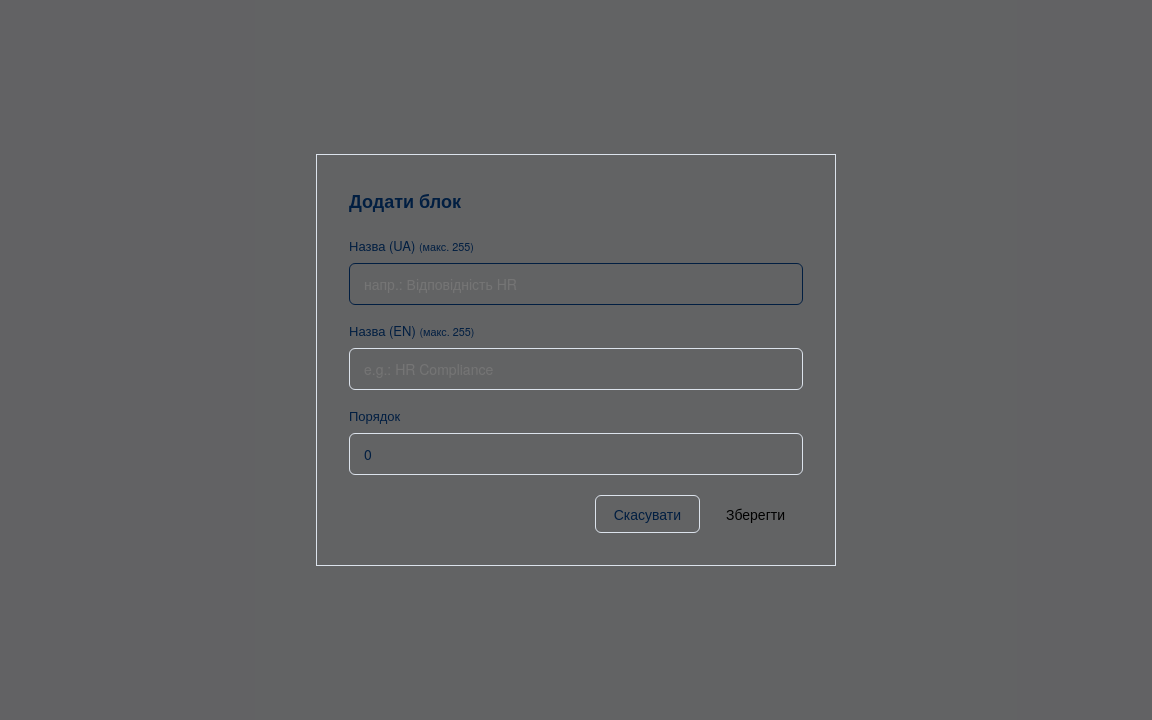
Test: field_too_long in the save modals › re-enables the form after the rejection so the value can be shortened
This screenshot has width=1152, height=720.
Type "Block" into the field with placeholder "e.g.: HR Compliance".
click(576, 369); type("Block")  # box [349,348,803,390]
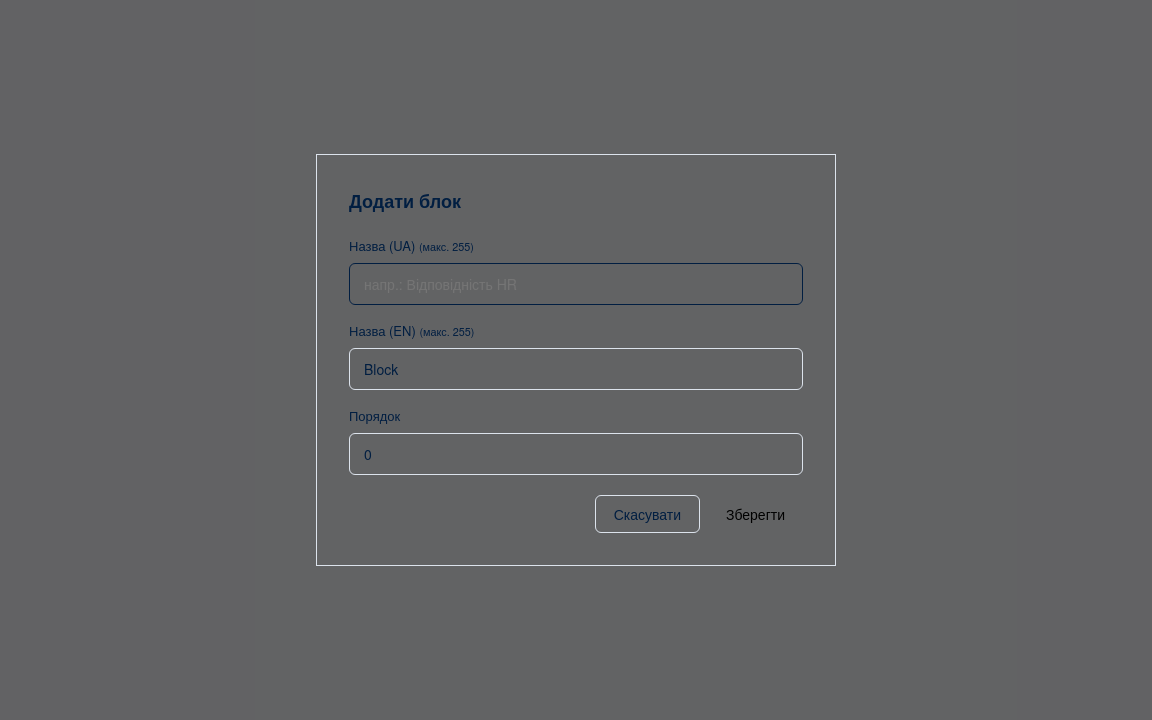
Click the button "Зберегти".
click(756, 514)  # box [708,495,803,533]
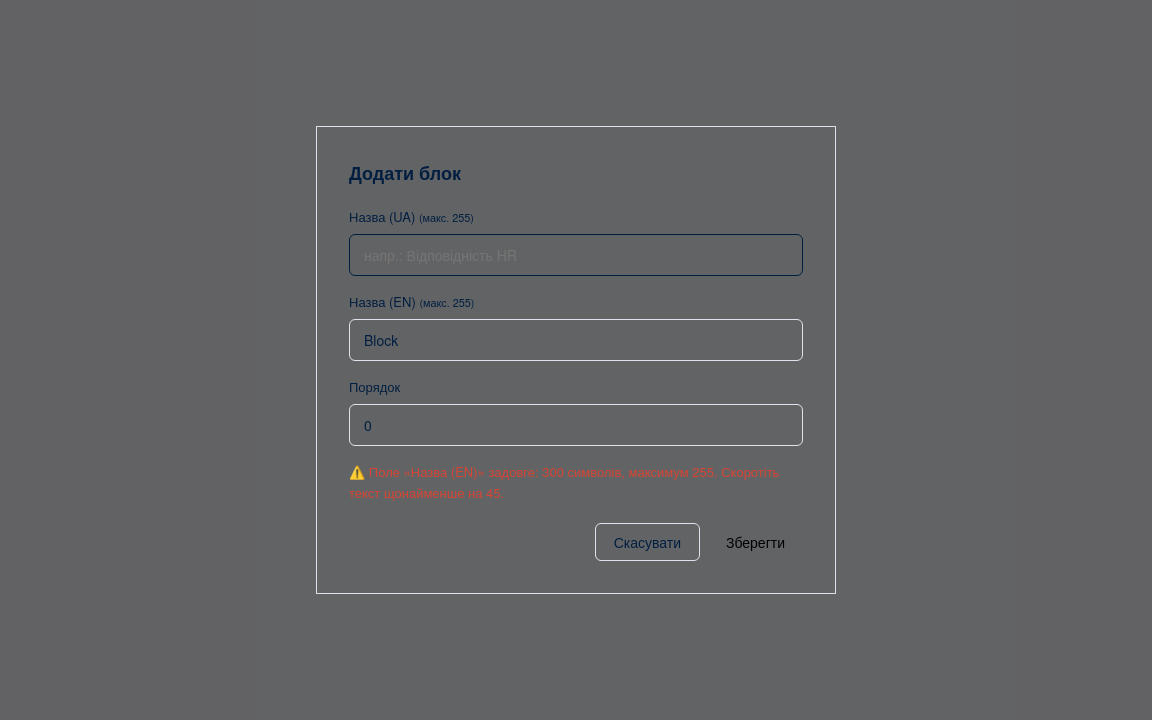
Expected: the button "Зберегти" is enabled, [708,523,803,561]
Expected: the text "Поле «Назва (EN)» задовге" is shown, [349,462,779,502]
